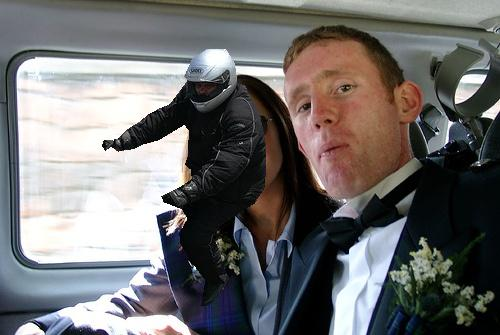tampered: (103, 50, 266, 306)
